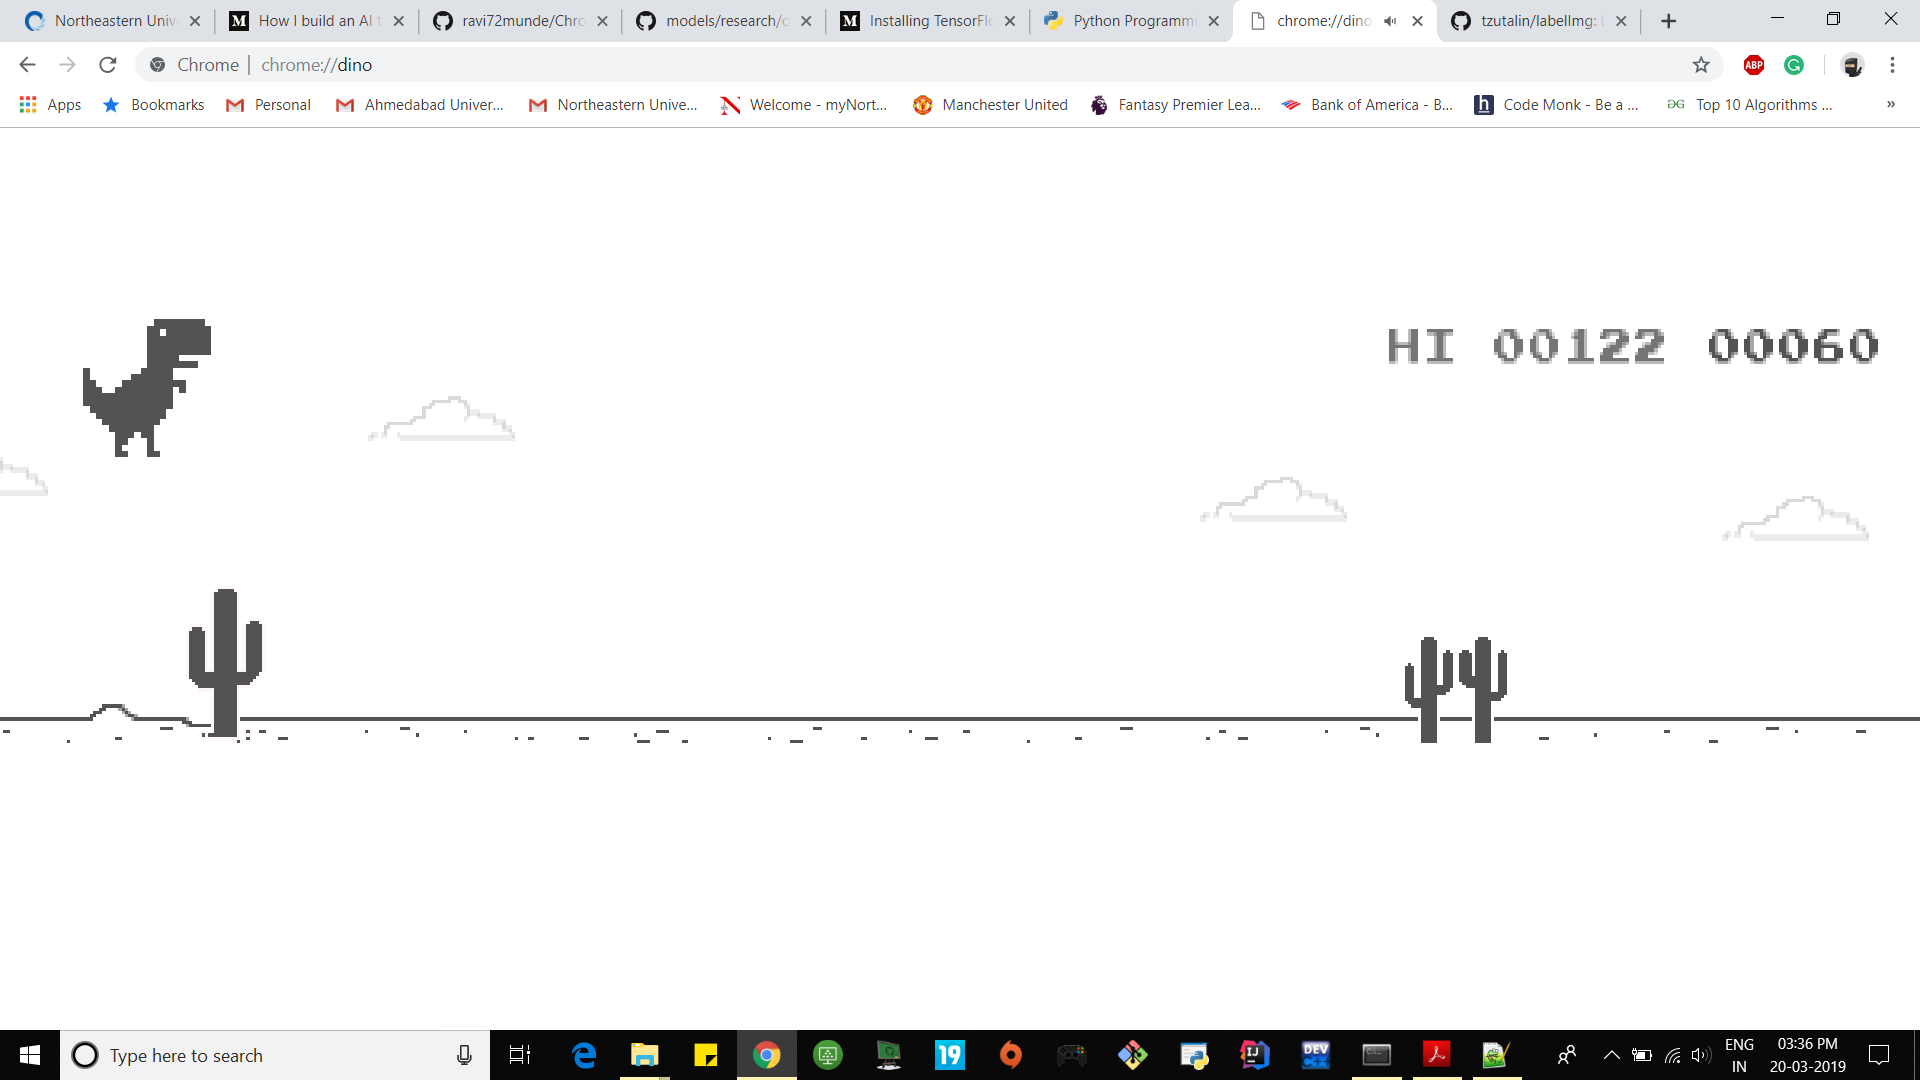cactus-1: (182, 589, 268, 740)
cactus-2: (1402, 636, 1510, 745)
dino: (82, 318, 212, 460)
